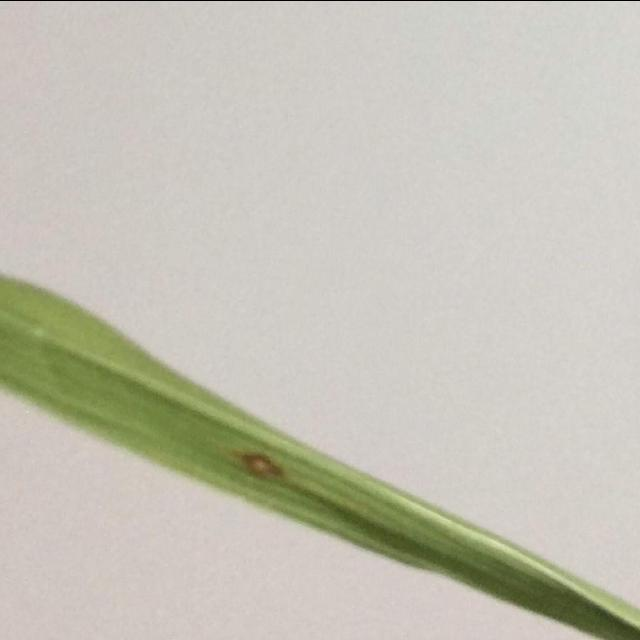Leaf_Blast: (233, 445, 320, 491)
